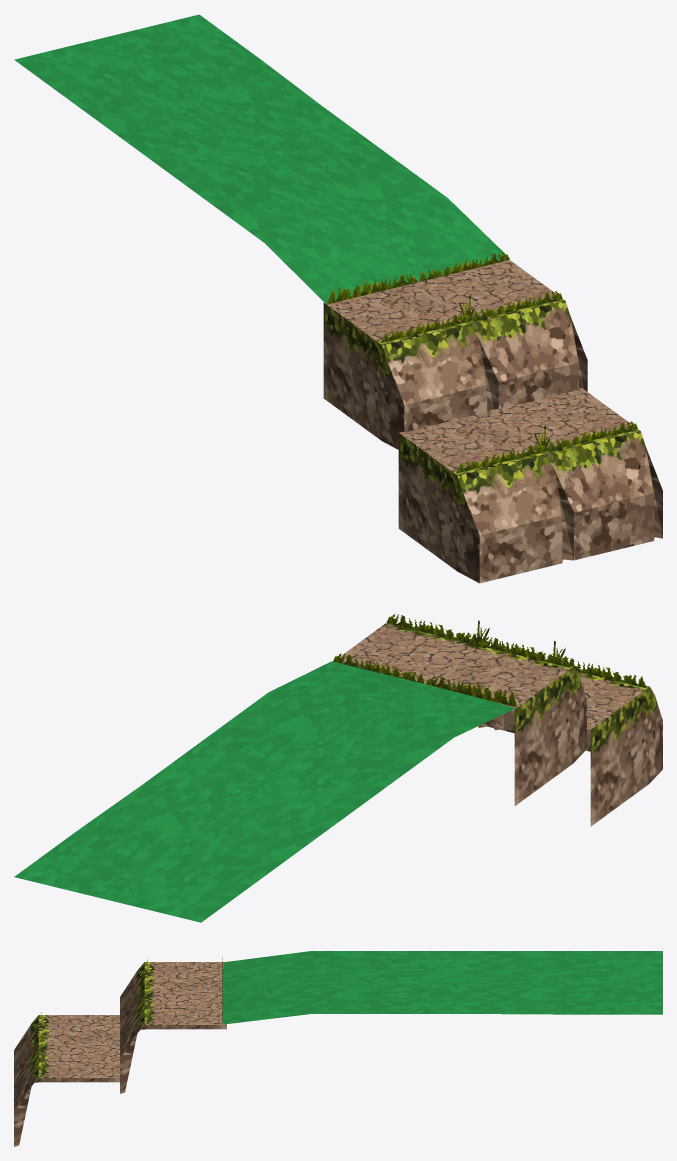
File: terreno_2_tiles.FBX
3 renders of one model, top to bottom at view 1: azimuth 30°, elevation 25°; view 2: azimuth 150°, elevation 25°; view 3: azimuth 270°, elevation 25°, orthographic. The views are drawn at different scales.
Parts seen in each view (by area): view 1: Terreno015; view 2: Terreno015; view 3: Terreno015.
Part boxes in pixels (x1,y1,x2,y2): Terreno015: [14, 14, 662, 583]; Terreno015: [14, 614, 662, 922]; Terreno015: [14, 951, 662, 1146].
Size of the model in its own units: 4.1 by 17.44 by 4.14.
Materials: 2 (2 with a texture image).
